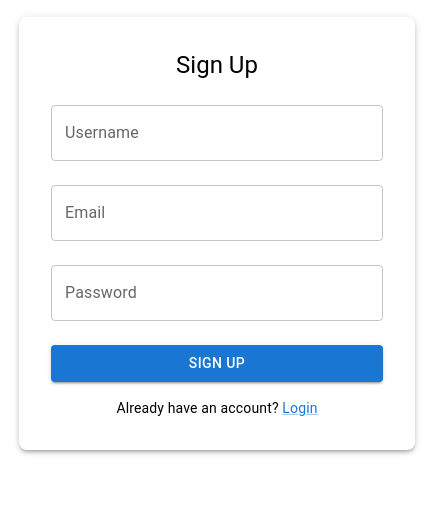
SignupForm › shows error when fetch throws an exception
Type "testuser" into the field labelled "Username" at (217, 133), box [51,105,383,161]
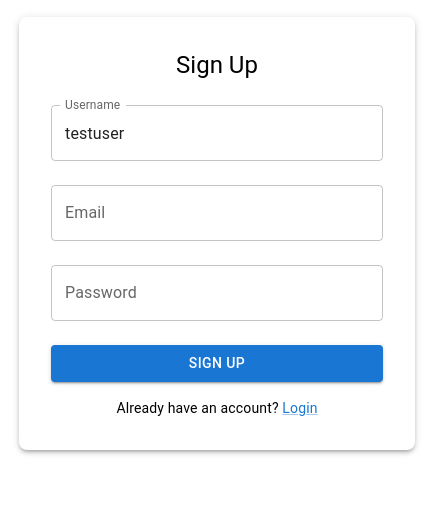
Type "test@example.com" into the field labelled "Email" at (217, 213), box [51,185,383,241]
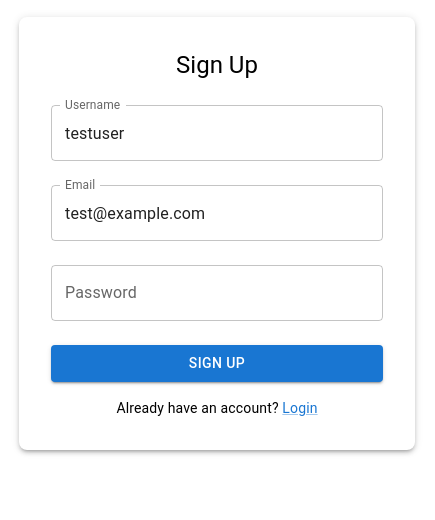
Type "testpass123" into the password field labelled "Password" at (217, 293), box [51,265,383,321]
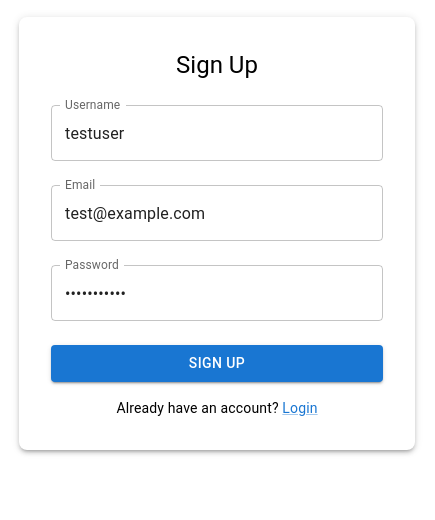
Click the button with test id "signup-submit-button" at (217, 364), box [51,345,383,382]
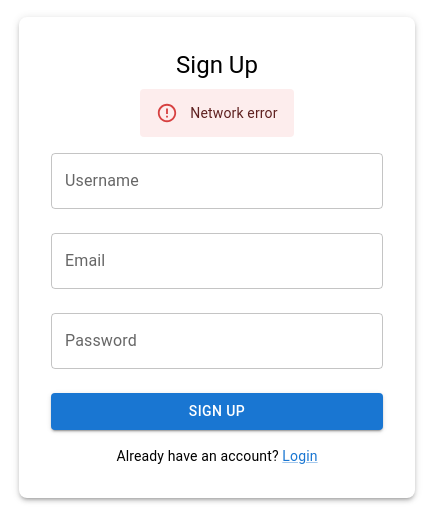
Now the text "Network error" is shown, box [190,105,278,121]
Now the field labelled "Username" is empty, box [51,153,383,209]
Now the field labelled "Email" is empty, box [51,233,383,289]
